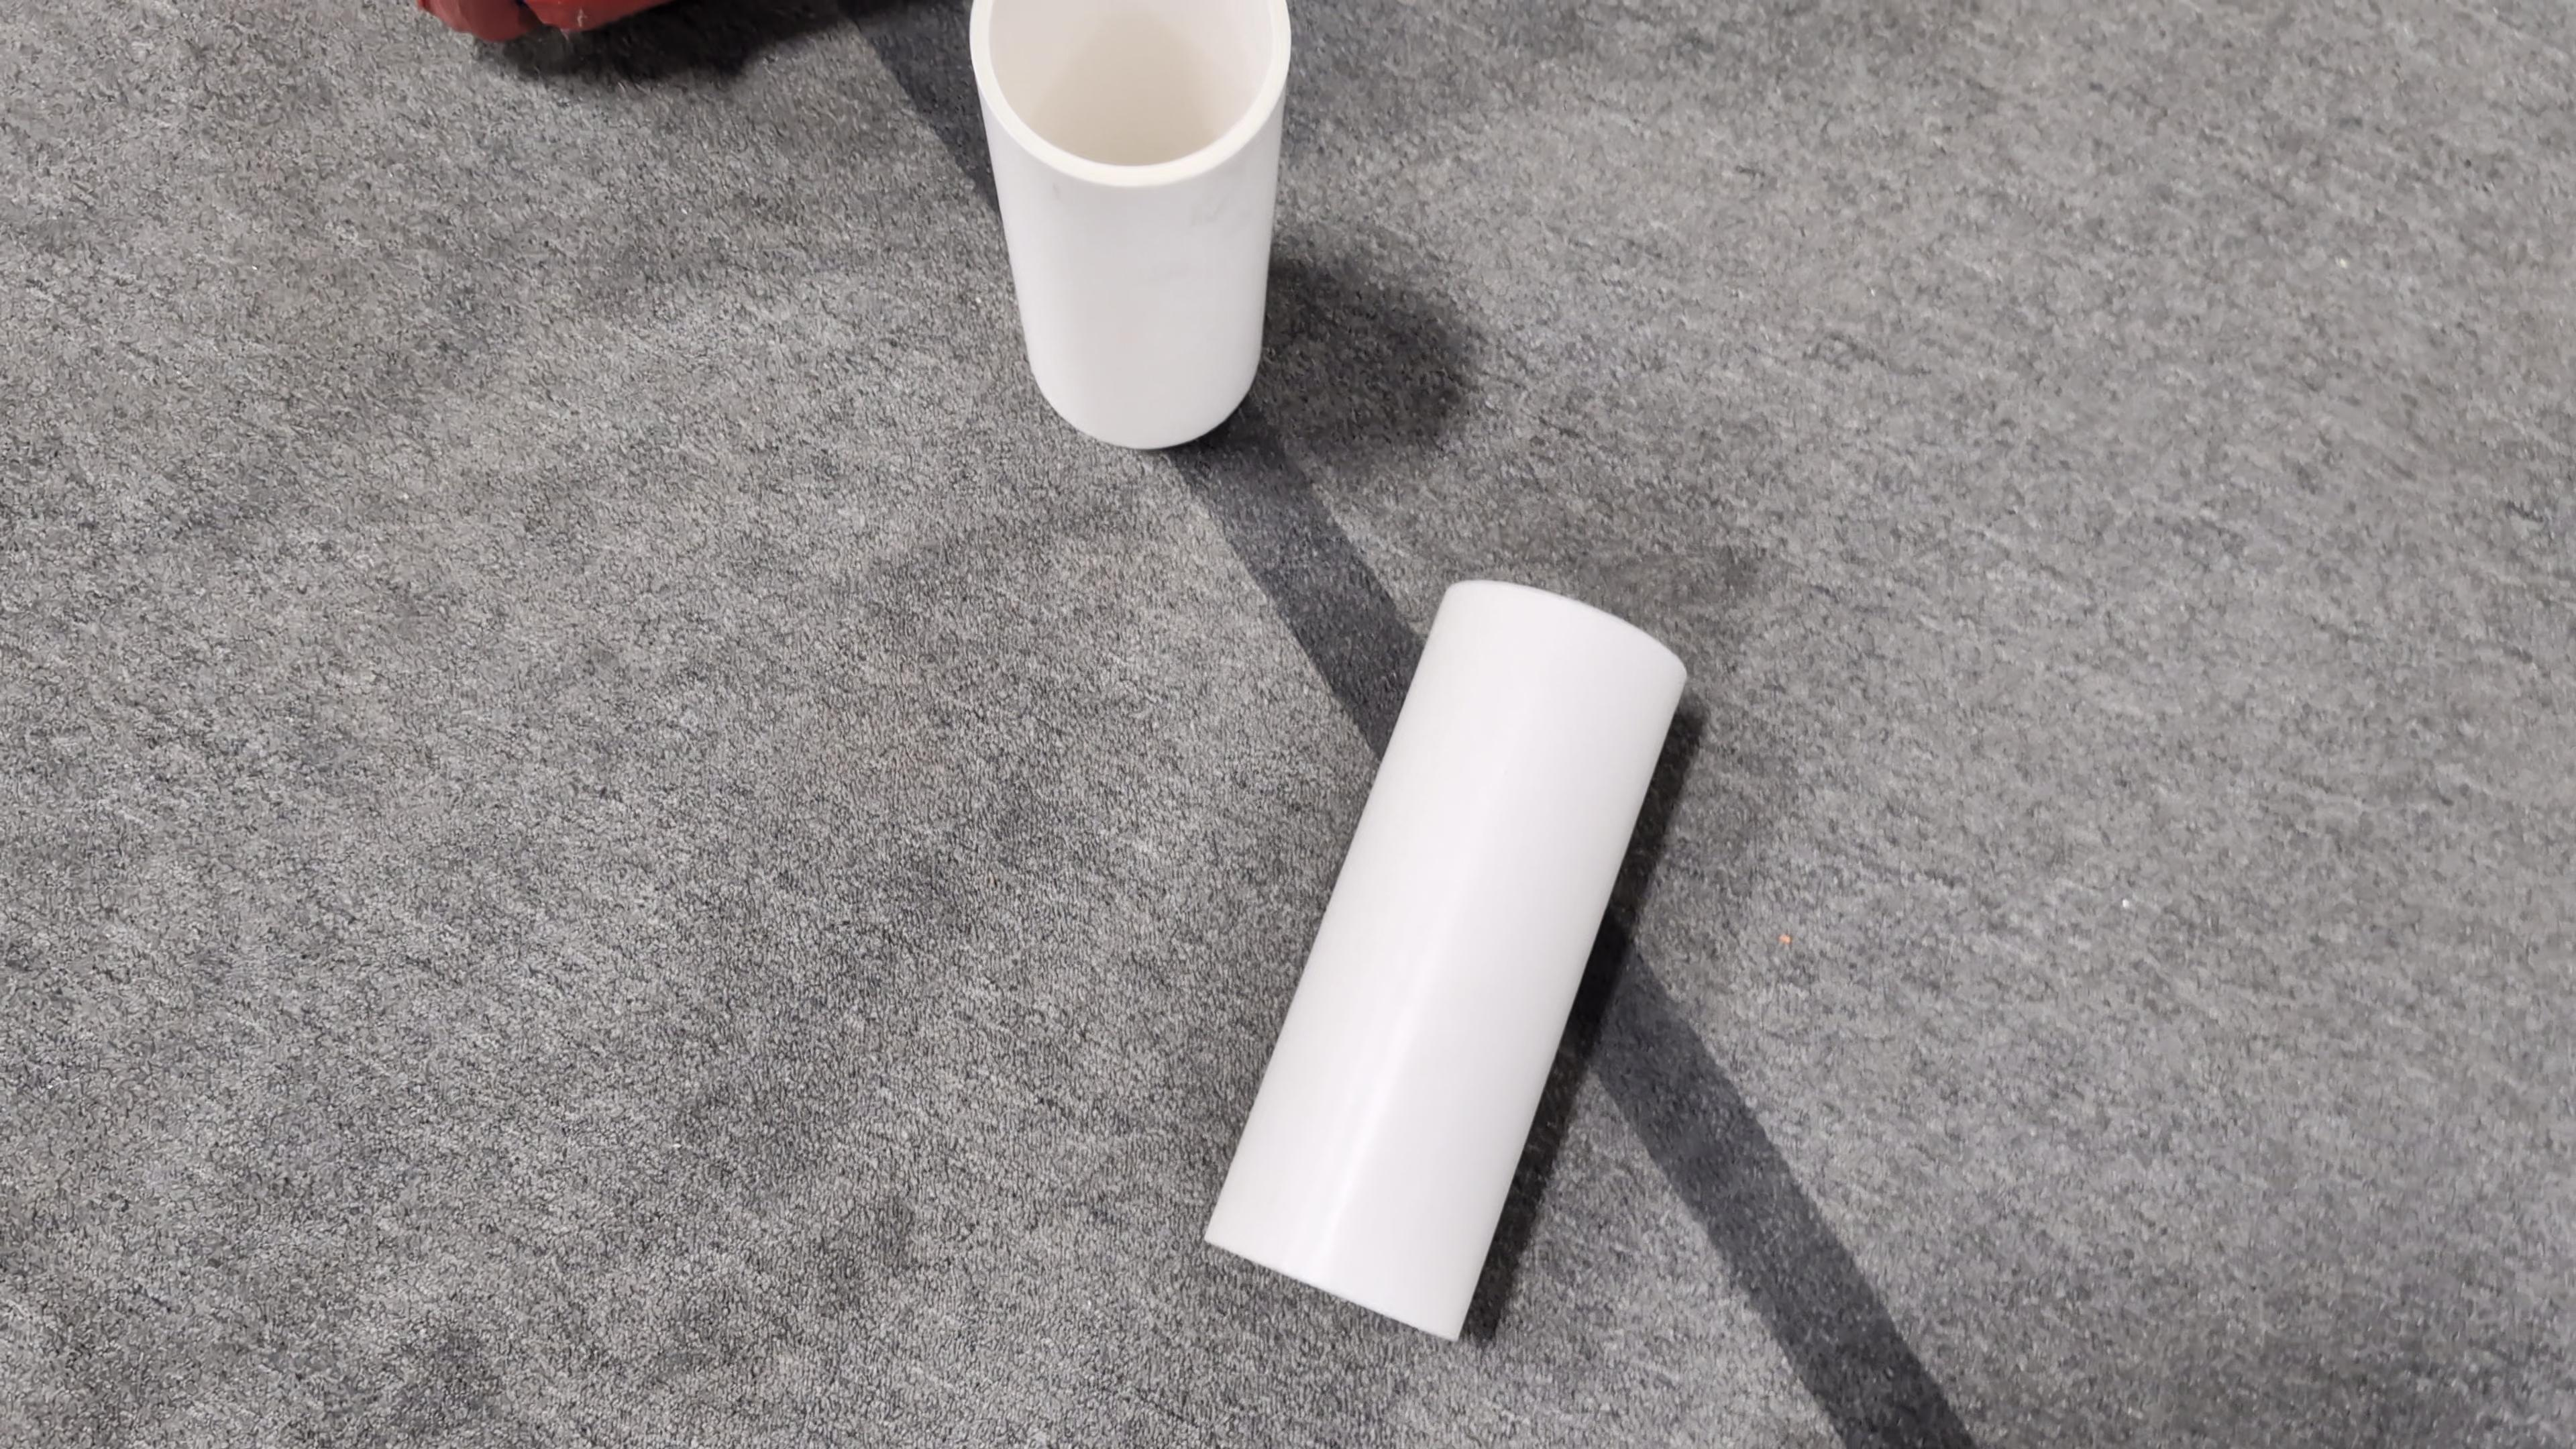coral: (1200, 573, 1693, 1336), (966, 2, 1293, 449)
